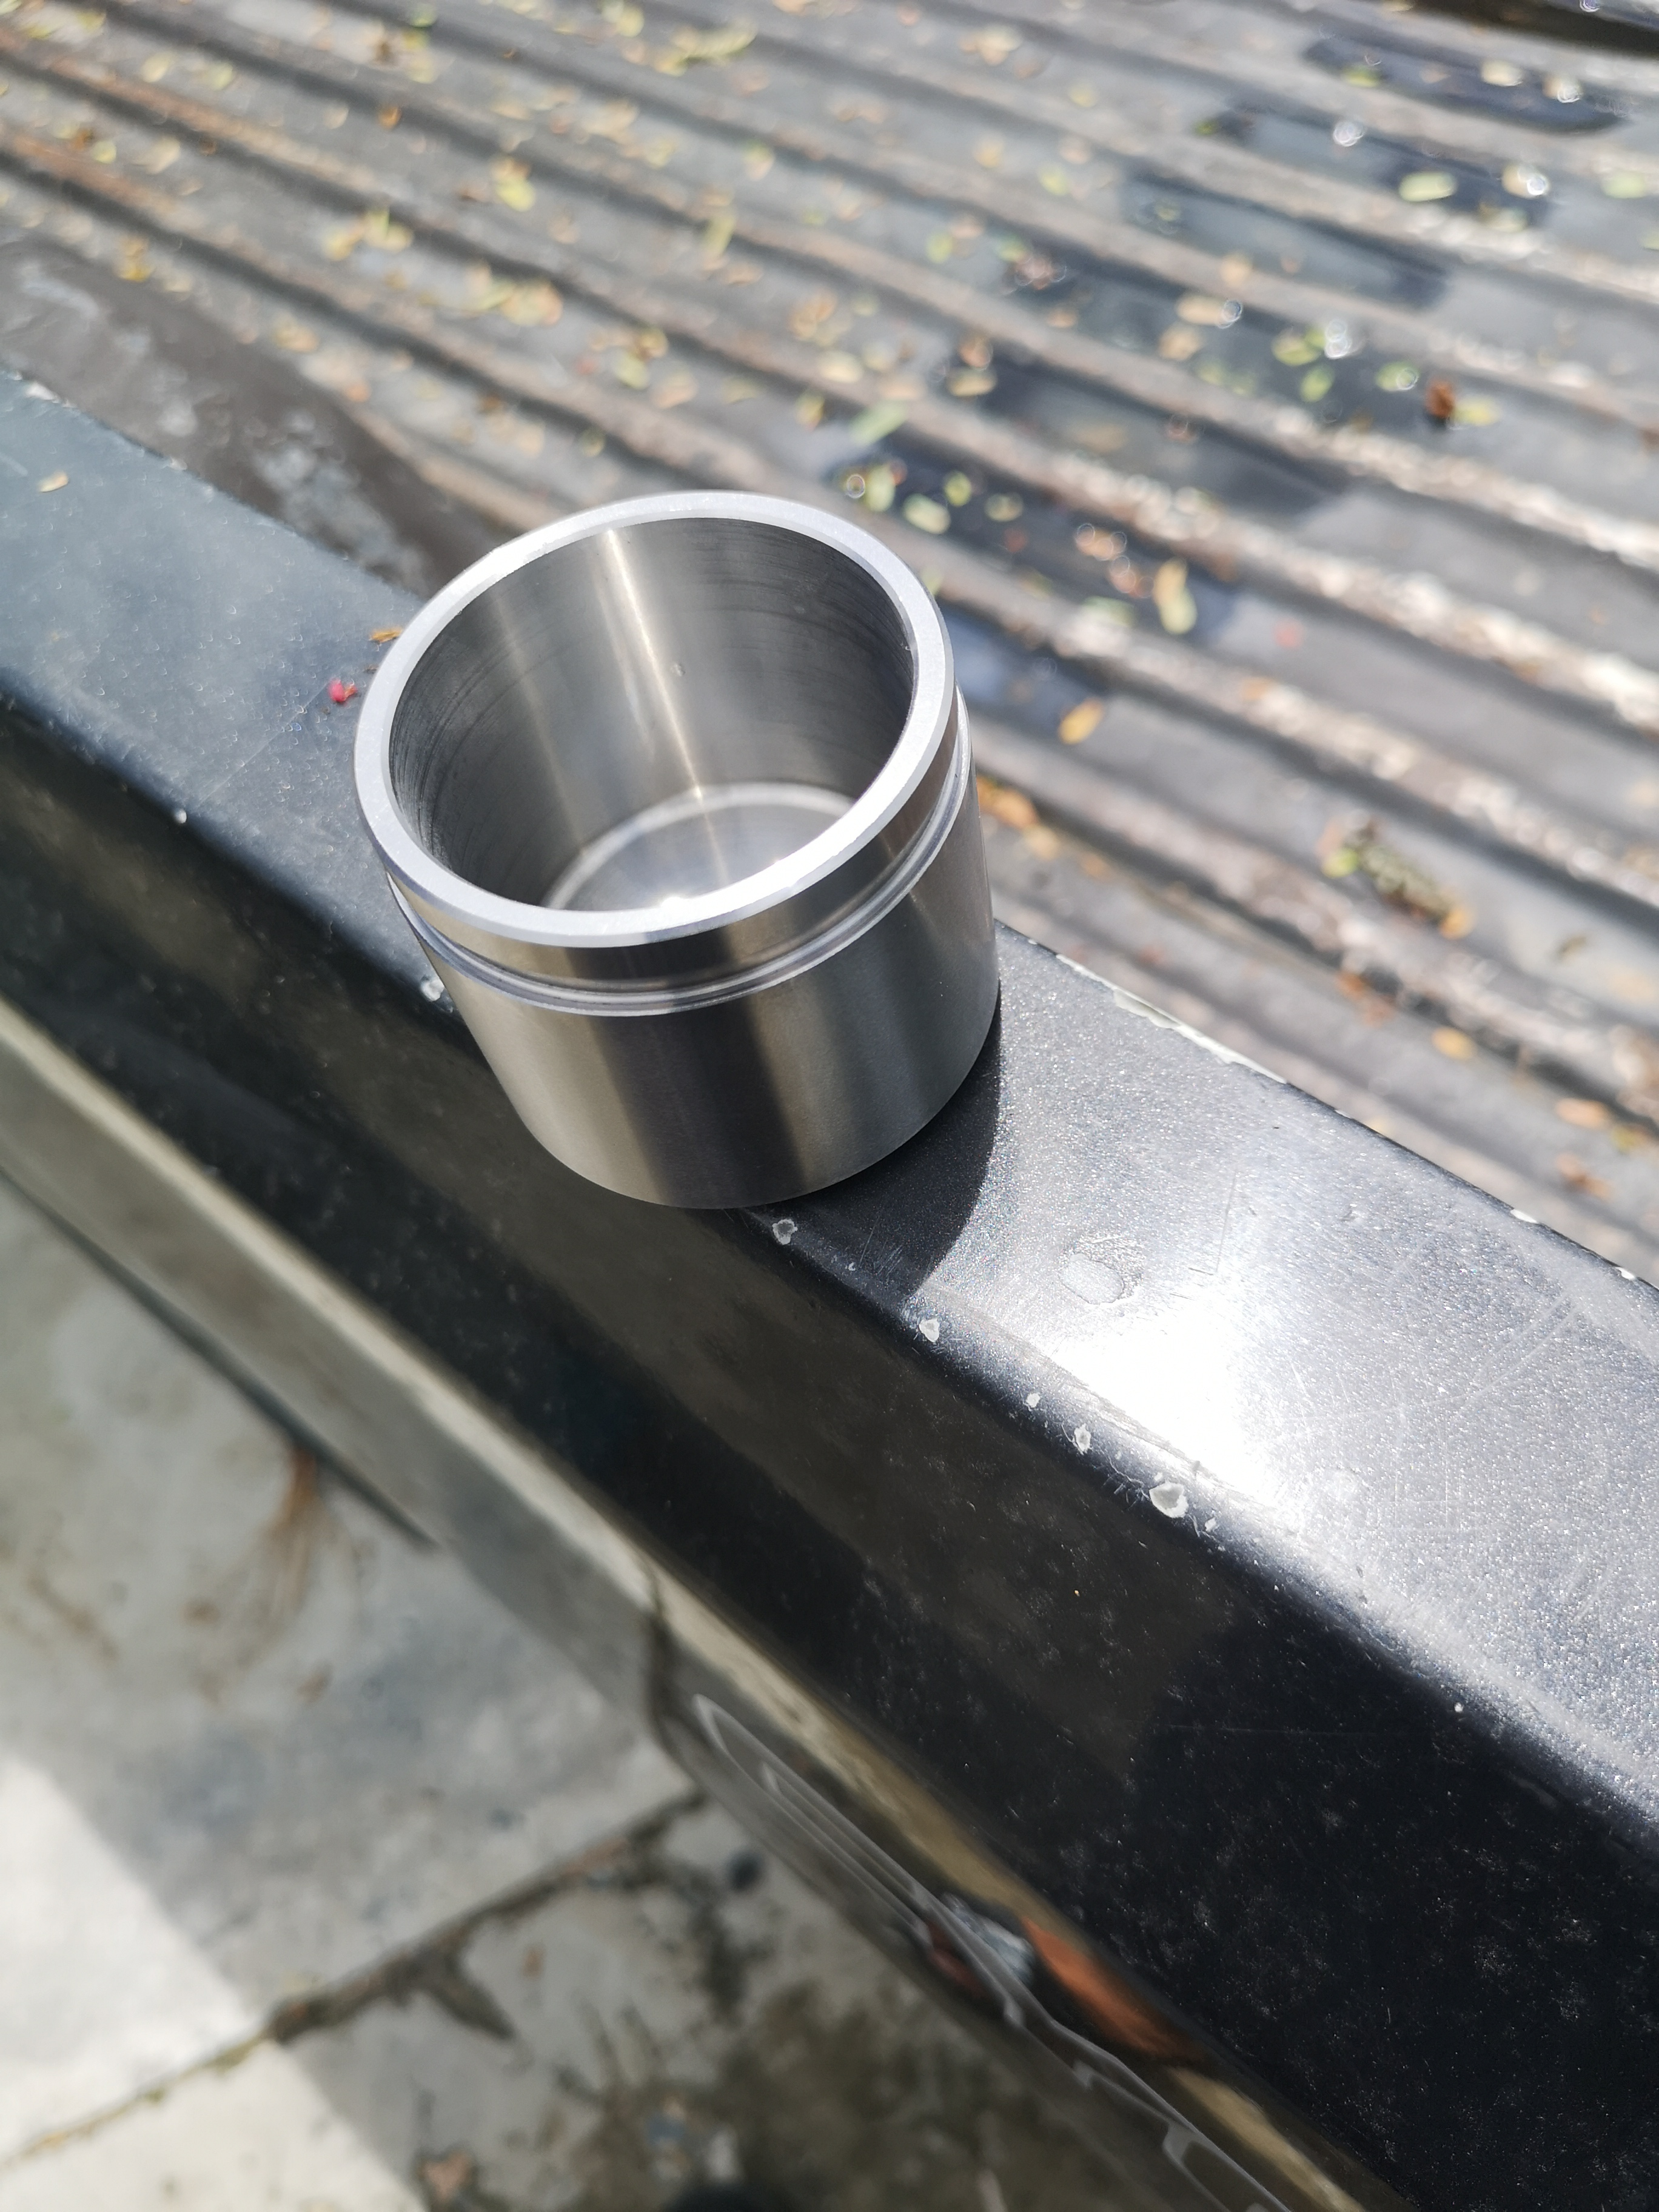ลูกสูบดิสเบรค: (300, 470, 1063, 1235)
